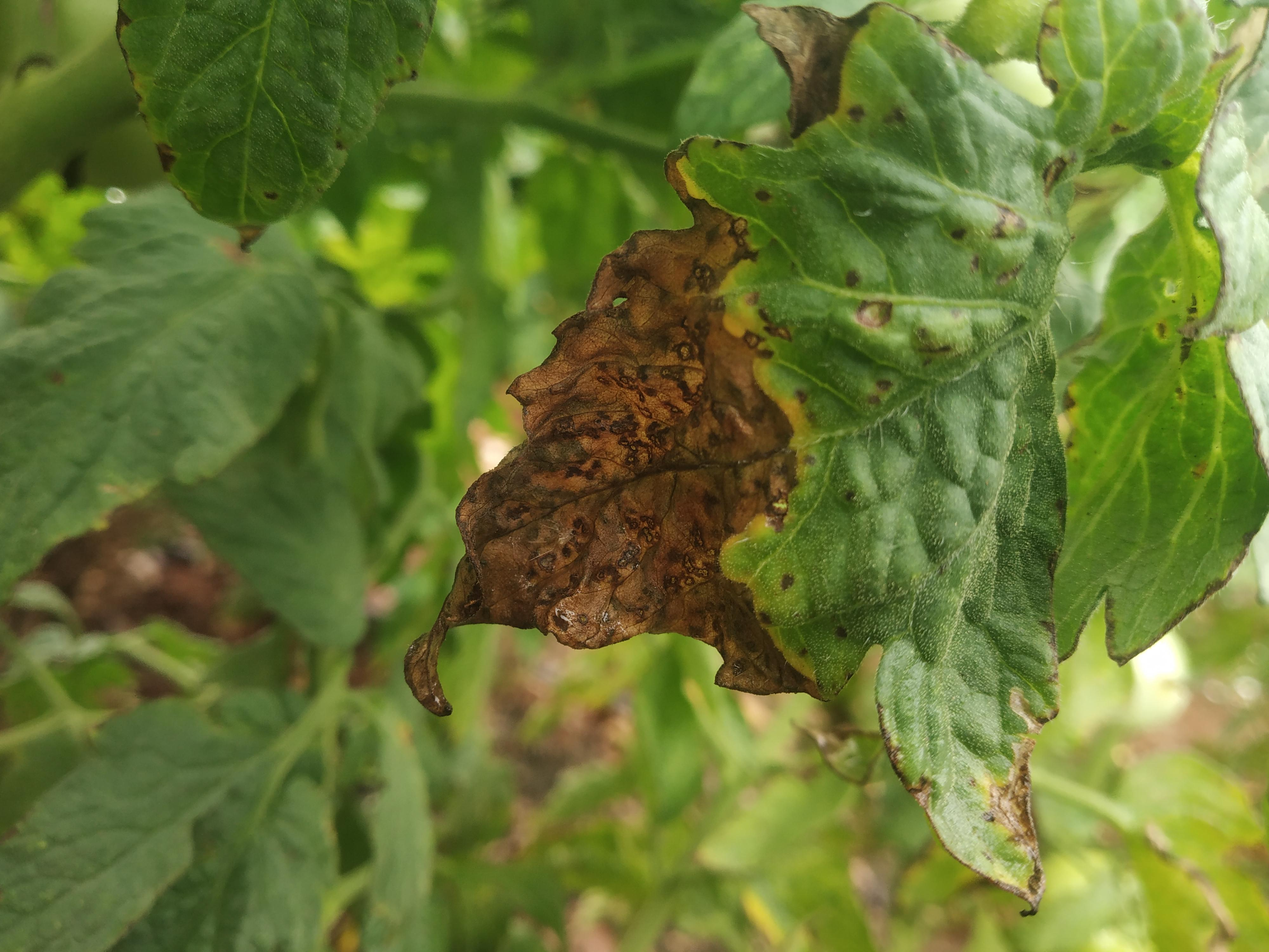Early Blight: (392, 0, 1068, 720)
